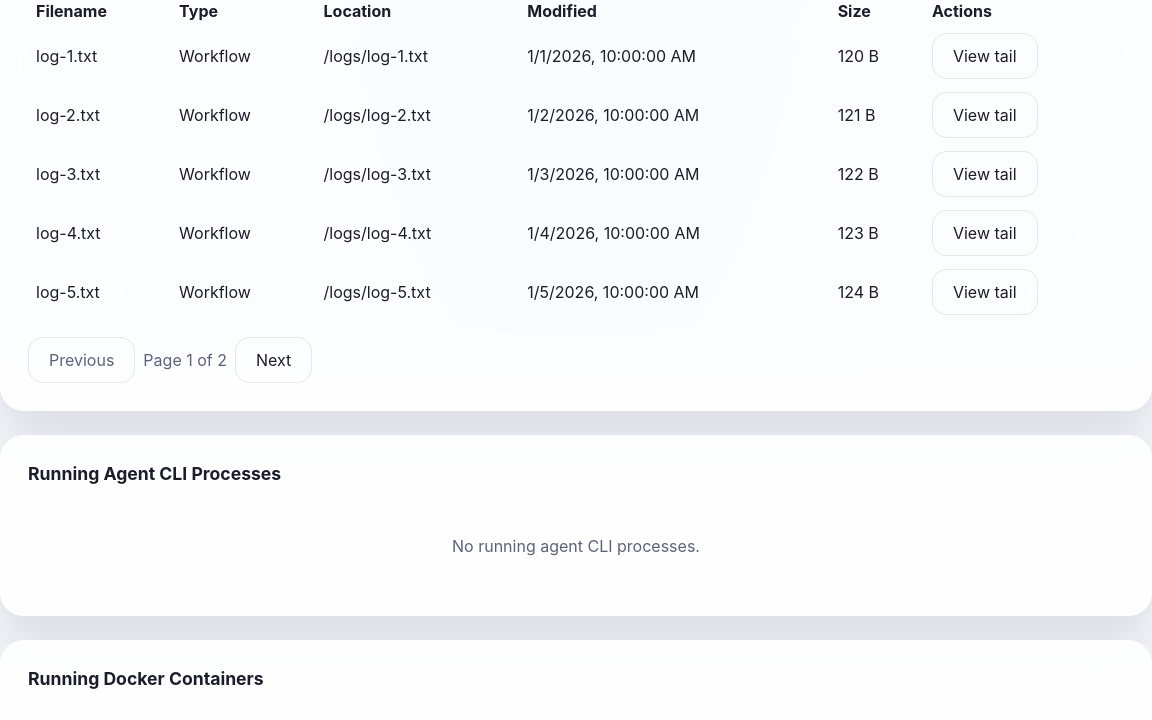
Test case: TasksPage › paginates available workflow logs with five rows per page
(page scrolled)
Check: the text "log-1.txt" is shown, box [28, 27, 171, 86]
Check: the text "log-5.txt" is shown, box [28, 262, 171, 321]
Click the button "Next": (274, 360) [235, 337, 312, 383]
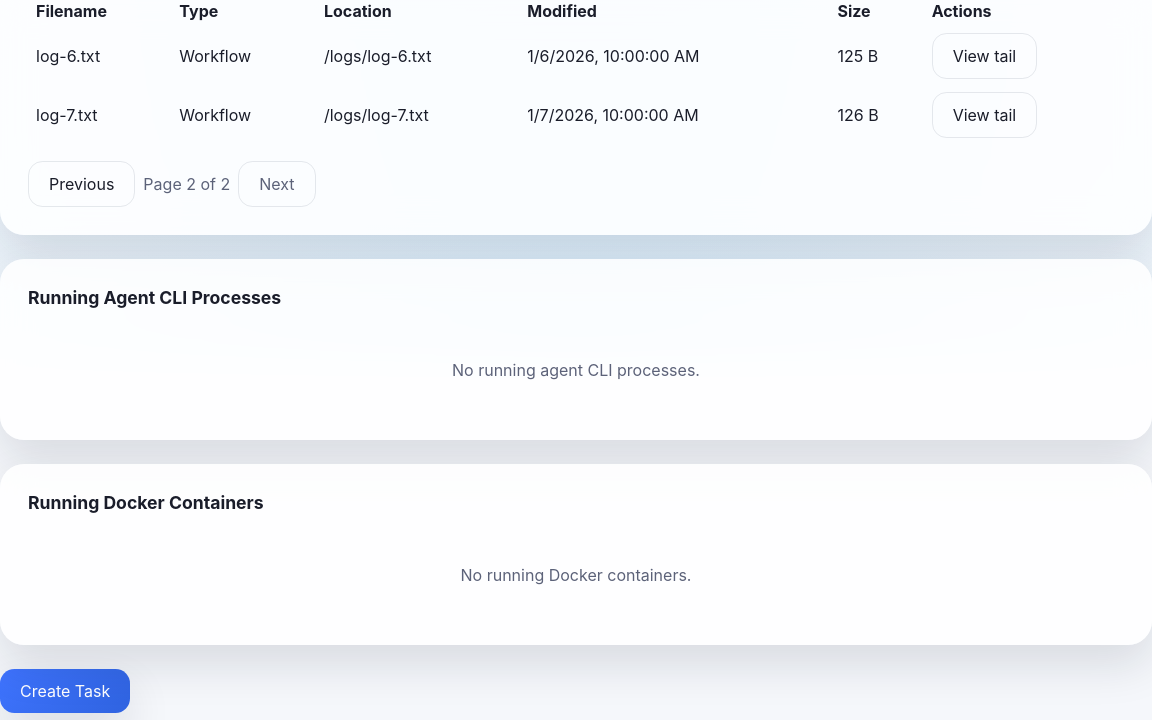
Check: the text "log-6.txt" is shown, box [28, 27, 171, 86]
Check: the text "log-7.txt" is shown, box [28, 86, 171, 145]
Check: the text "log-1.txt" is gone
